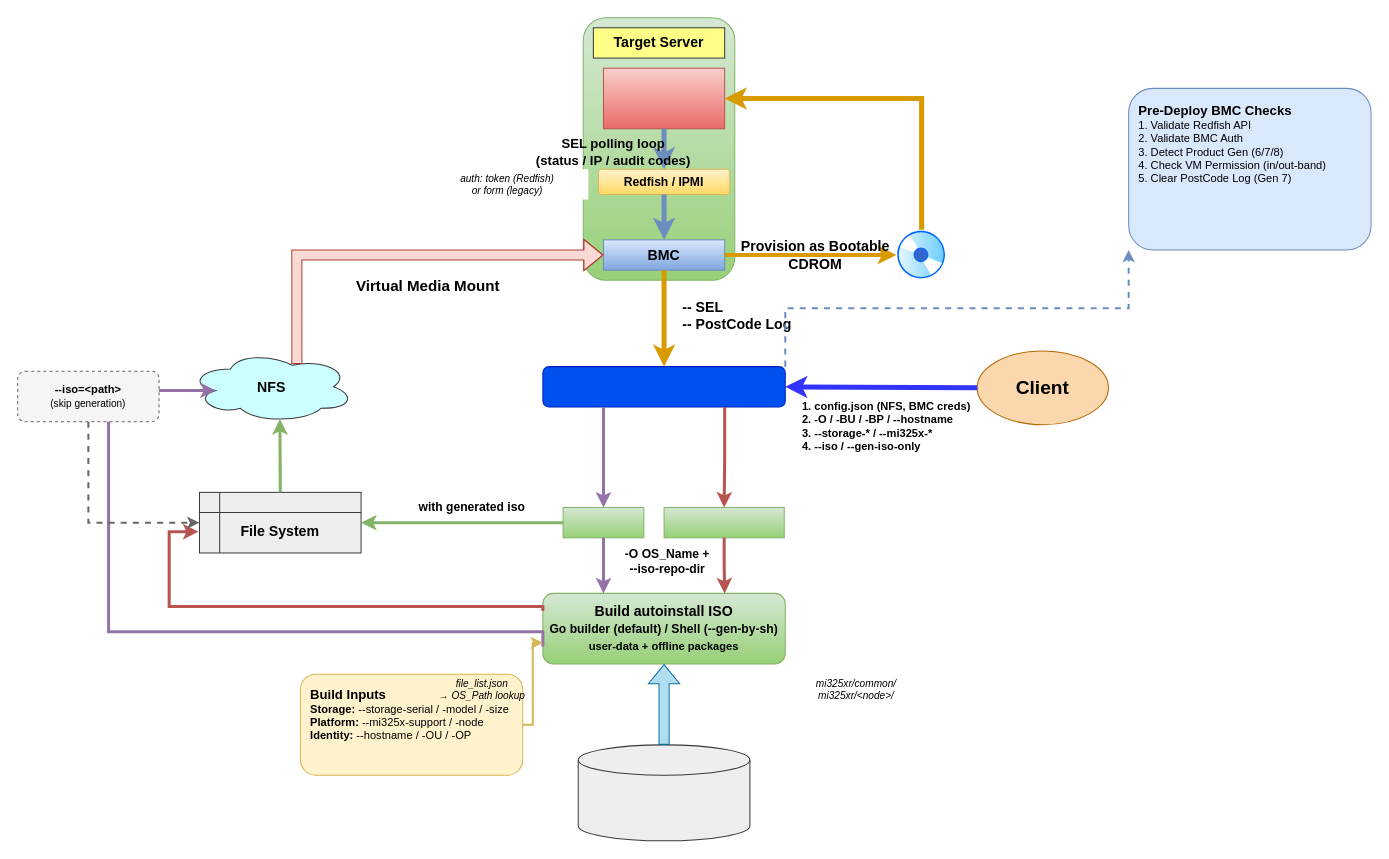
Some shapes in this 1389 by 859 pixel diagram are drawn without their labels. The shapes that lost their labels are listed below. From the top down, each one's box as (x1, y1, x2, y2) in pixels, then its label:
(602, 67, 725, 129): Host
(542, 366, 785, 407): OS-Deploy
(562, 507, 644, 538): Deploy OS
(663, 507, 784, 538): Gen ISO Only
(577, 744, 750, 841): Official ISO Repository (Local)
